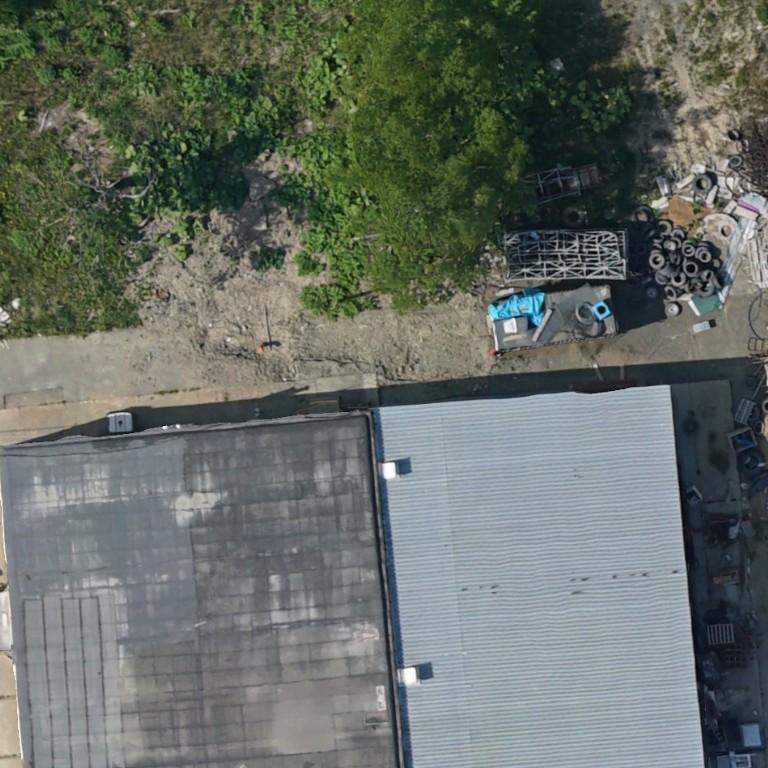hogweed: (307, 193, 348, 254), (301, 285, 357, 320), (337, 249, 367, 287)
